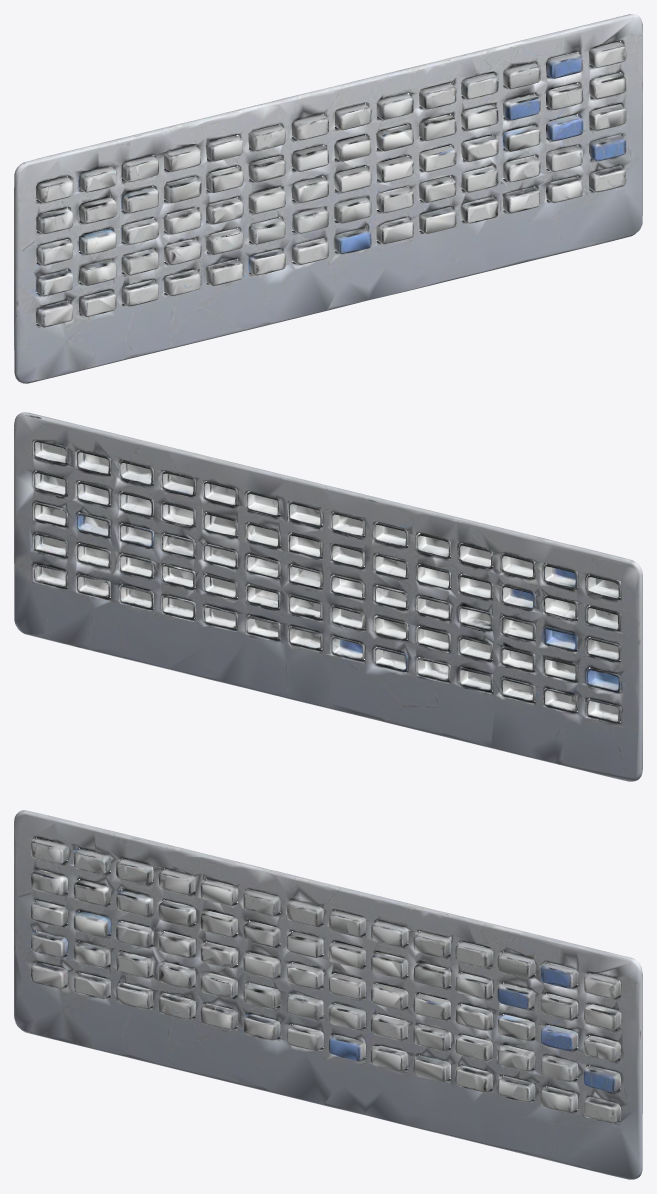
The model's file is keyboard.glb.
3 renders of one model, top to bottom at view 1: azimuth 30°, elevation 25°; view 2: azimuth 150°, elevation 25°; view 3: azimuth 330°, elevation 25°, orthographic.
Bounding box in the file's own units: 1.9 × 0.6428 × 0.0415.
1 material, 1 textured.
